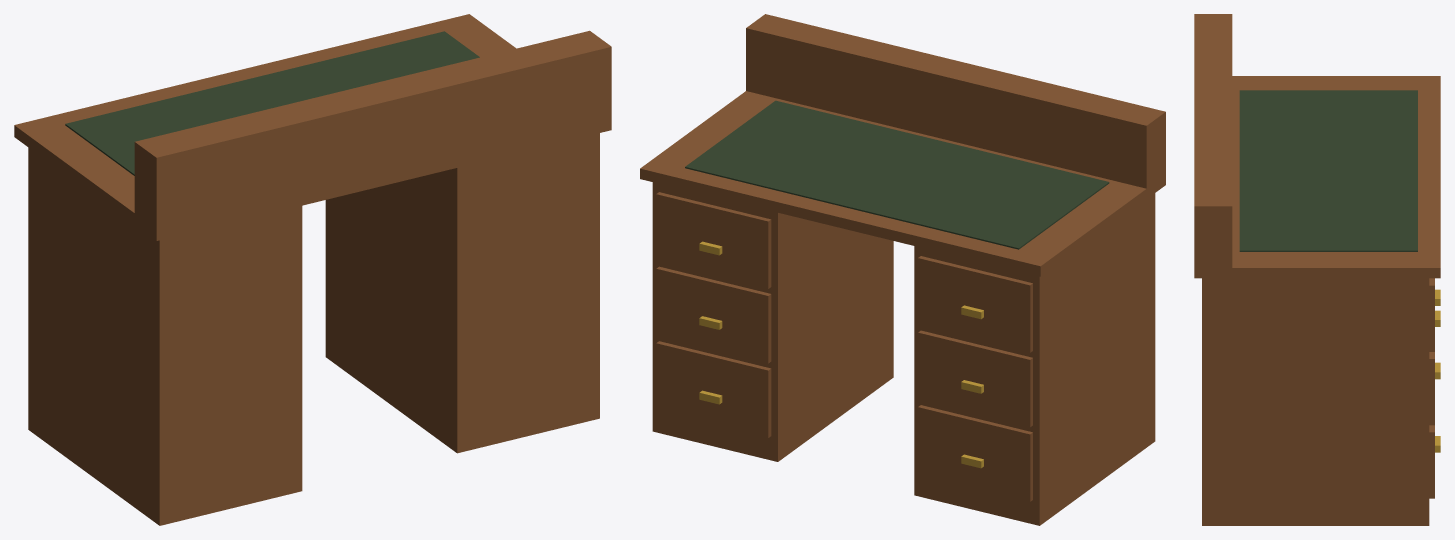
File: parametric-desk-crew.glb
3 views of the same model, side by side, from view 1: azimuth 30°, elevation 25°; view 2: azimuth 150°, elevation 25°; view 3: azimuth 270°, elevation 25° (orthographic). The views are drawn at different scales.
Parts seen in each view (by area): view 1: parametric-desk-crew; view 2: parametric-desk-crew; view 3: parametric-desk-crew.
Part boxes in pixels (bbox=[...]): parametric-desk-crew: bbox=[14, 14, 611, 525]; parametric-desk-crew: bbox=[640, 14, 1165, 525]; parametric-desk-crew: bbox=[1194, 14, 1440, 525].
Size of the model in its own units: 1.2 by 0.94 by 0.65.
